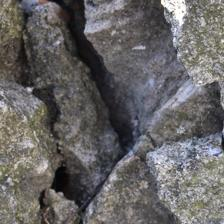Crack: (0, 103, 114, 163), (36, 88, 107, 136), (44, 0, 88, 64)
